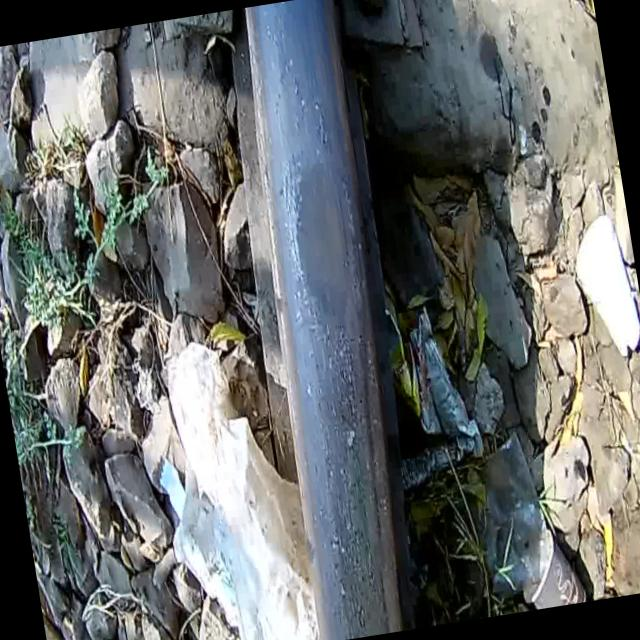Squats: (209, 0, 454, 640)
